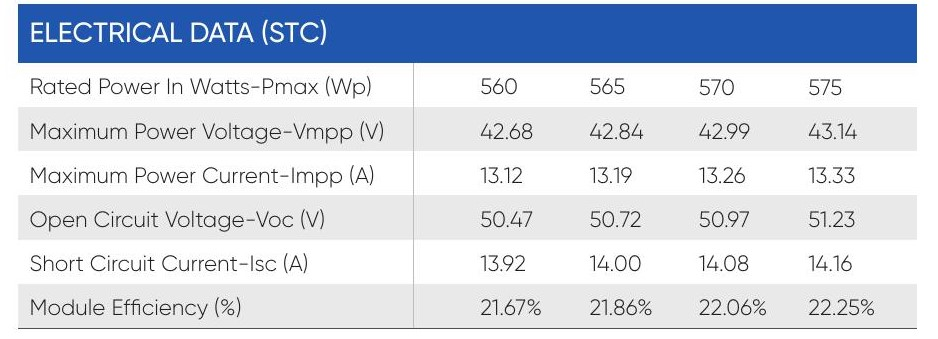table: (5, 50, 935, 337)
table column: (24, 59, 404, 333), (427, 60, 560, 333), (796, 53, 896, 334), (575, 58, 675, 333), (694, 60, 782, 331)
table row: (16, 65, 925, 106), (14, 110, 929, 150), (14, 244, 926, 283), (11, 154, 928, 192), (12, 199, 928, 237), (13, 290, 924, 325)
